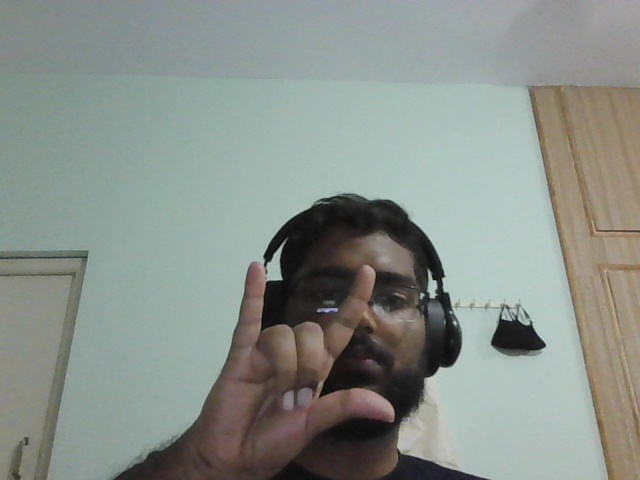I Love You: (205, 248, 399, 480)
